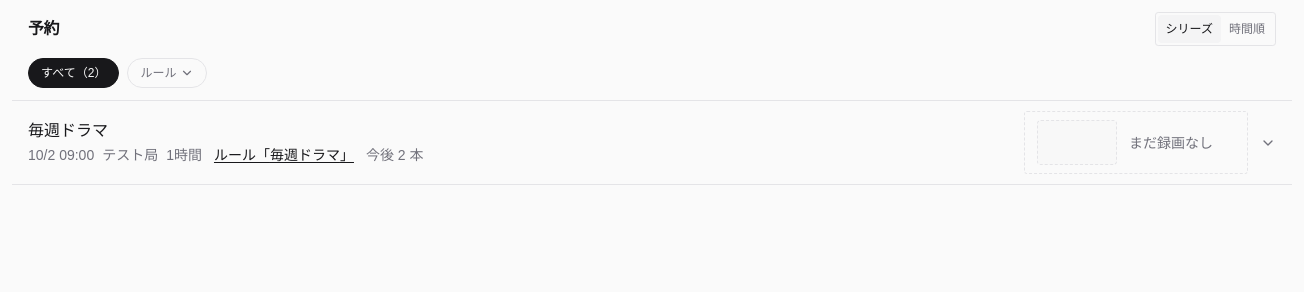
予約一覧のシリーズ表示 › 2 拠点構成なら、予約が 1 site だけでも各回に site を出す
The width and height of the screenshot is (1304, 292).
Click the button named "毎週ドラマの予約を開く".
click(652, 142)  # box [12,101,1292,184]
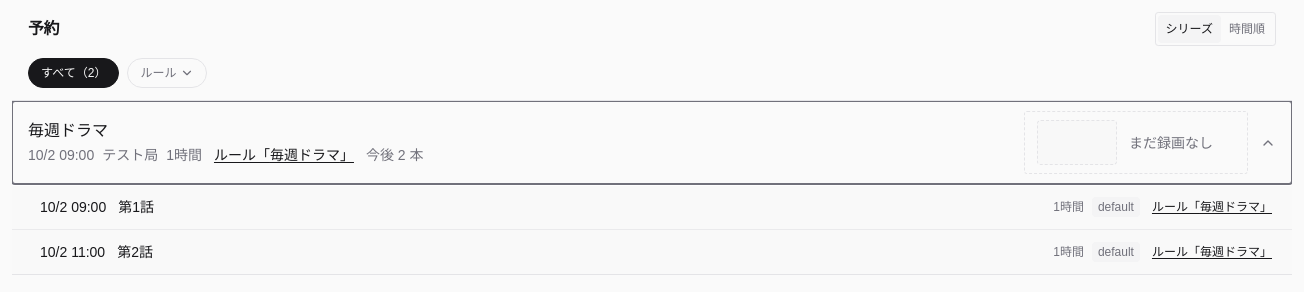
Expected: the text "default" is shown 2 times, [1092,197,1140,217]; [1092,242,1140,262]
